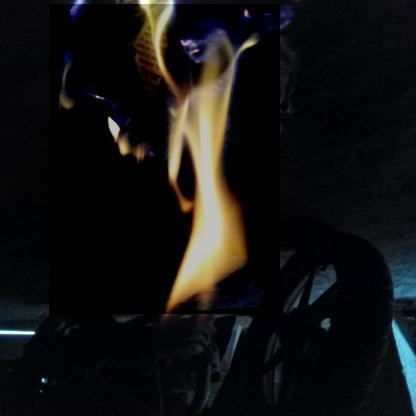Fire: (132, 3, 280, 319)
